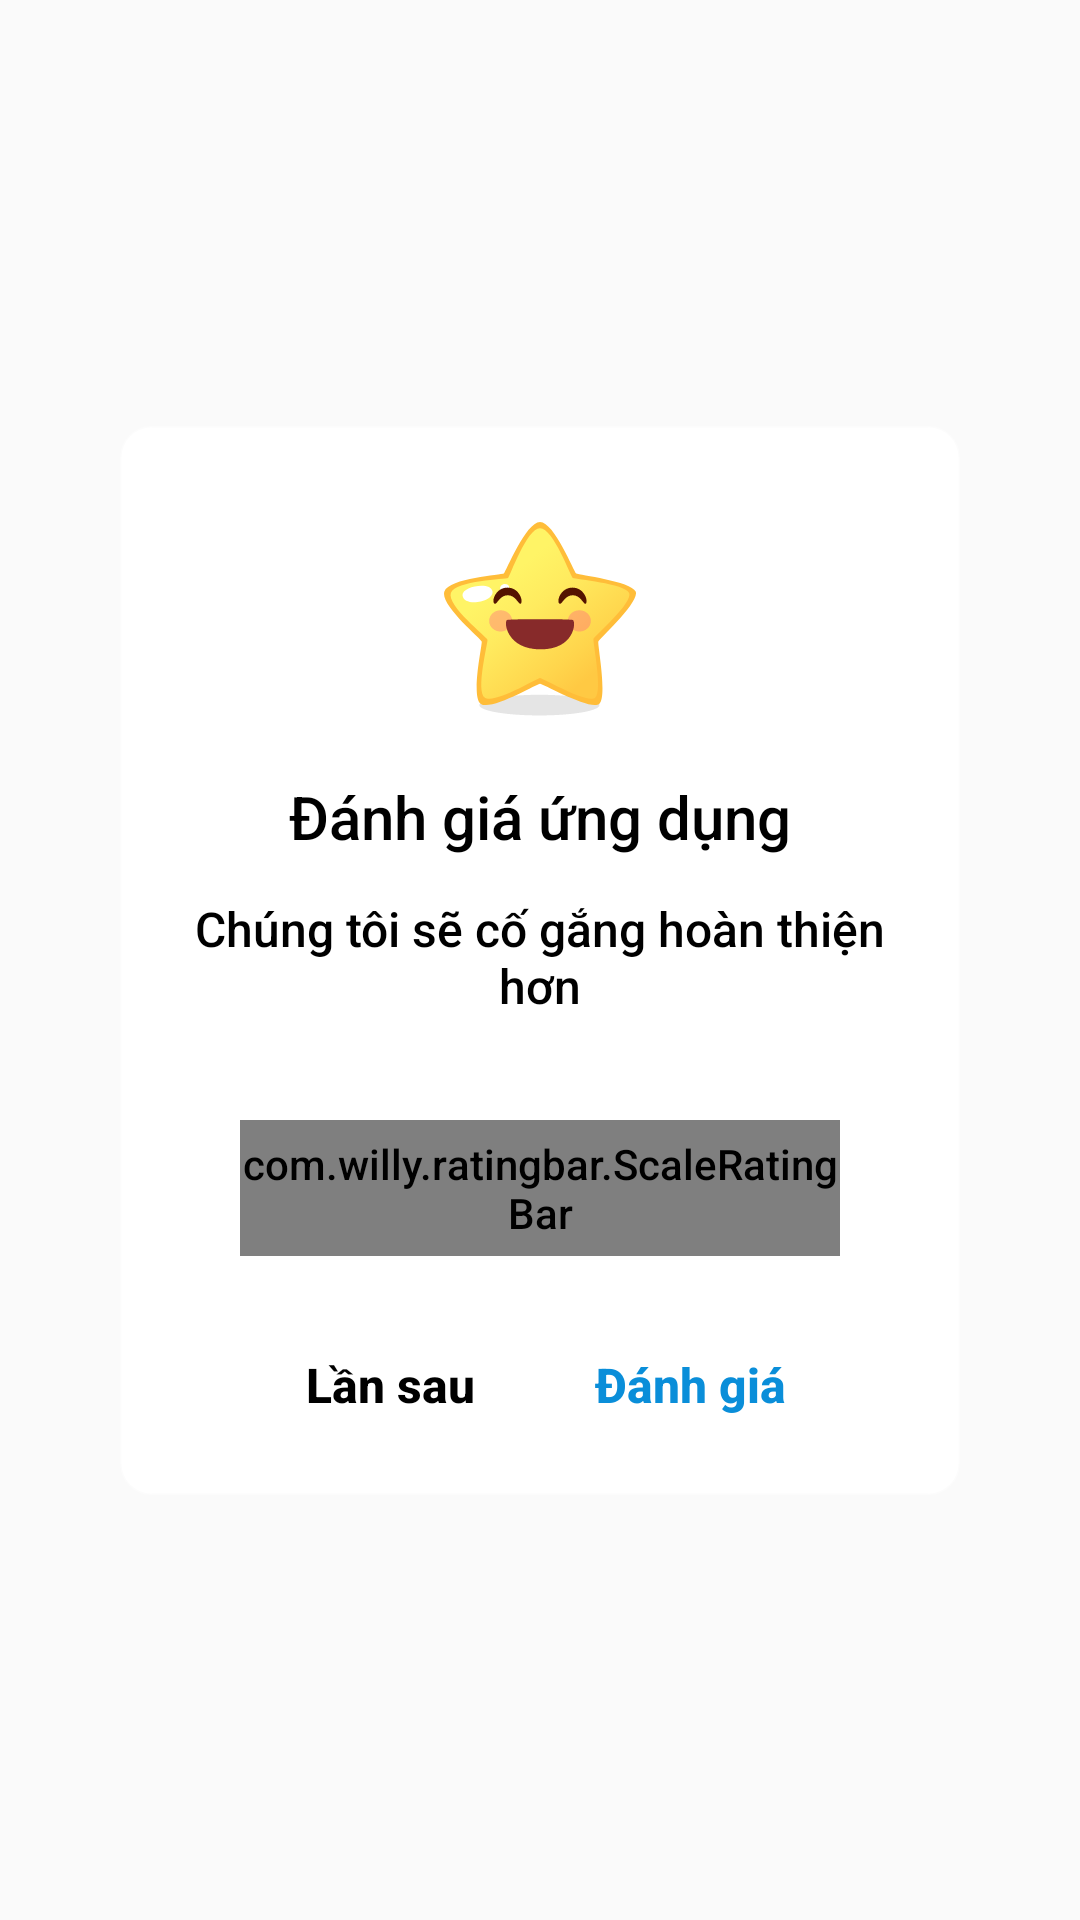

Named icons in this screenshot (1080px×1920px) and their bounding boxes, box=[x1, y1, x2, y2]:
rate: box=[444, 522, 636, 715]
